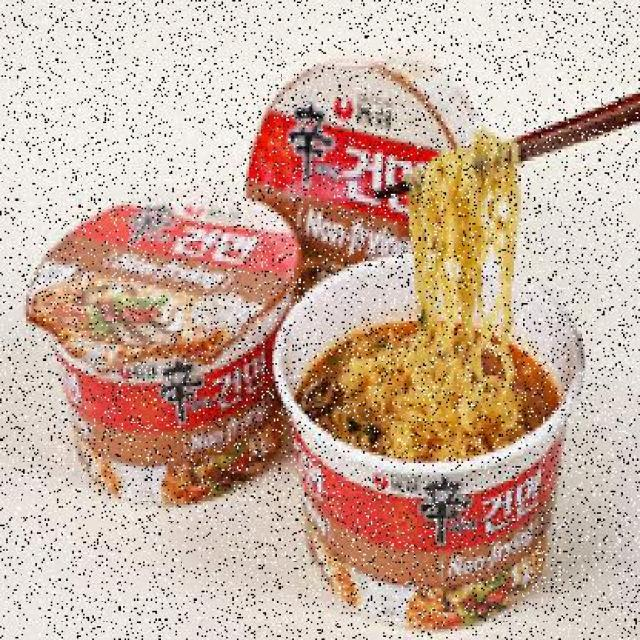Miscellaneous: (278, 273, 604, 622), (47, 190, 296, 507)
